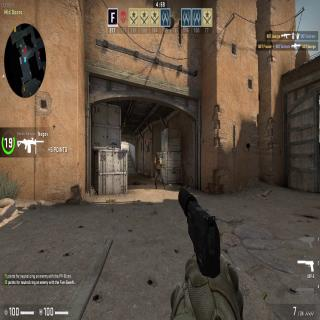CT-Body: (154, 153, 162, 187)
CT-Head: (156, 153, 160, 159)
